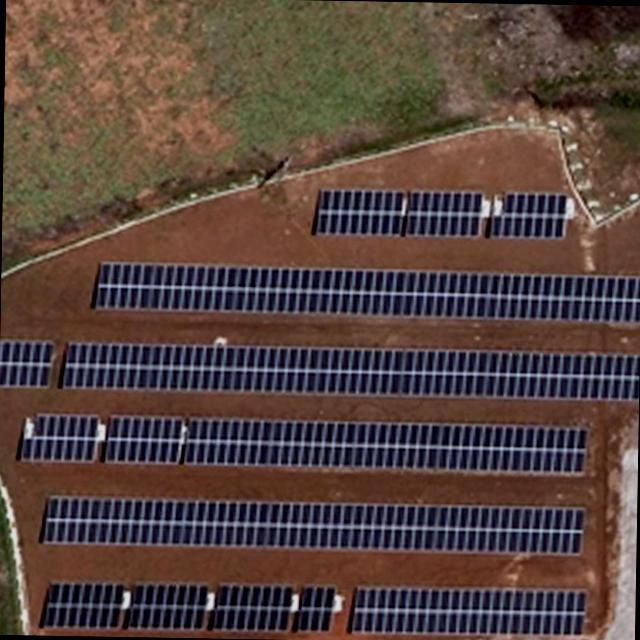solar: (91, 255, 640, 326), (52, 342, 638, 402), (39, 494, 585, 558), (183, 418, 590, 473), (346, 582, 588, 640), (308, 182, 408, 242), (484, 187, 570, 243), (18, 409, 100, 467), (210, 580, 294, 634), (125, 581, 212, 633), (100, 418, 188, 467), (406, 188, 484, 240), (38, 584, 122, 630), (0, 338, 52, 388), (294, 584, 336, 636)
